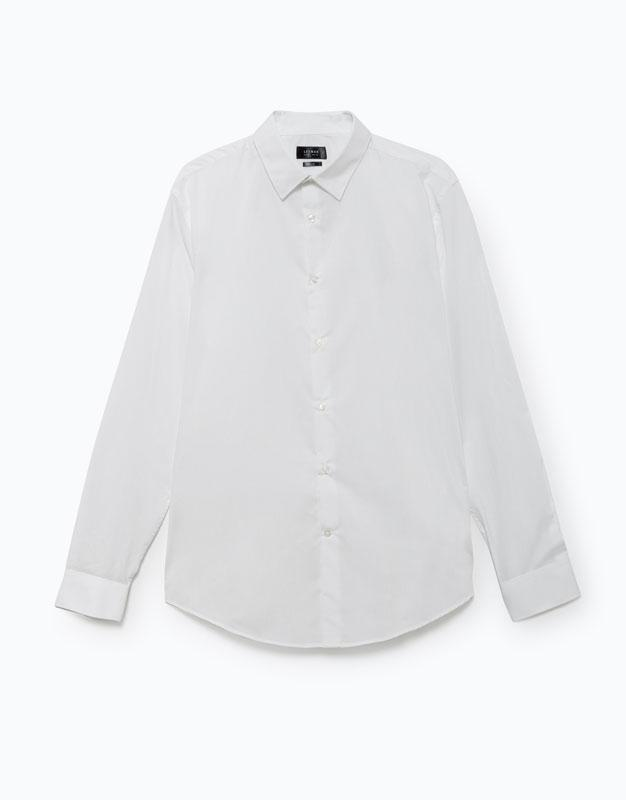teeshirt: (73, 97, 585, 652)
